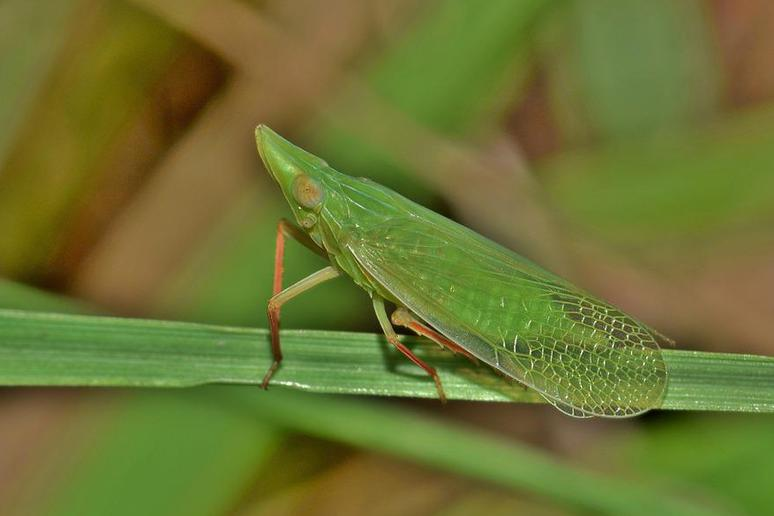pest: (249, 120, 679, 419)
